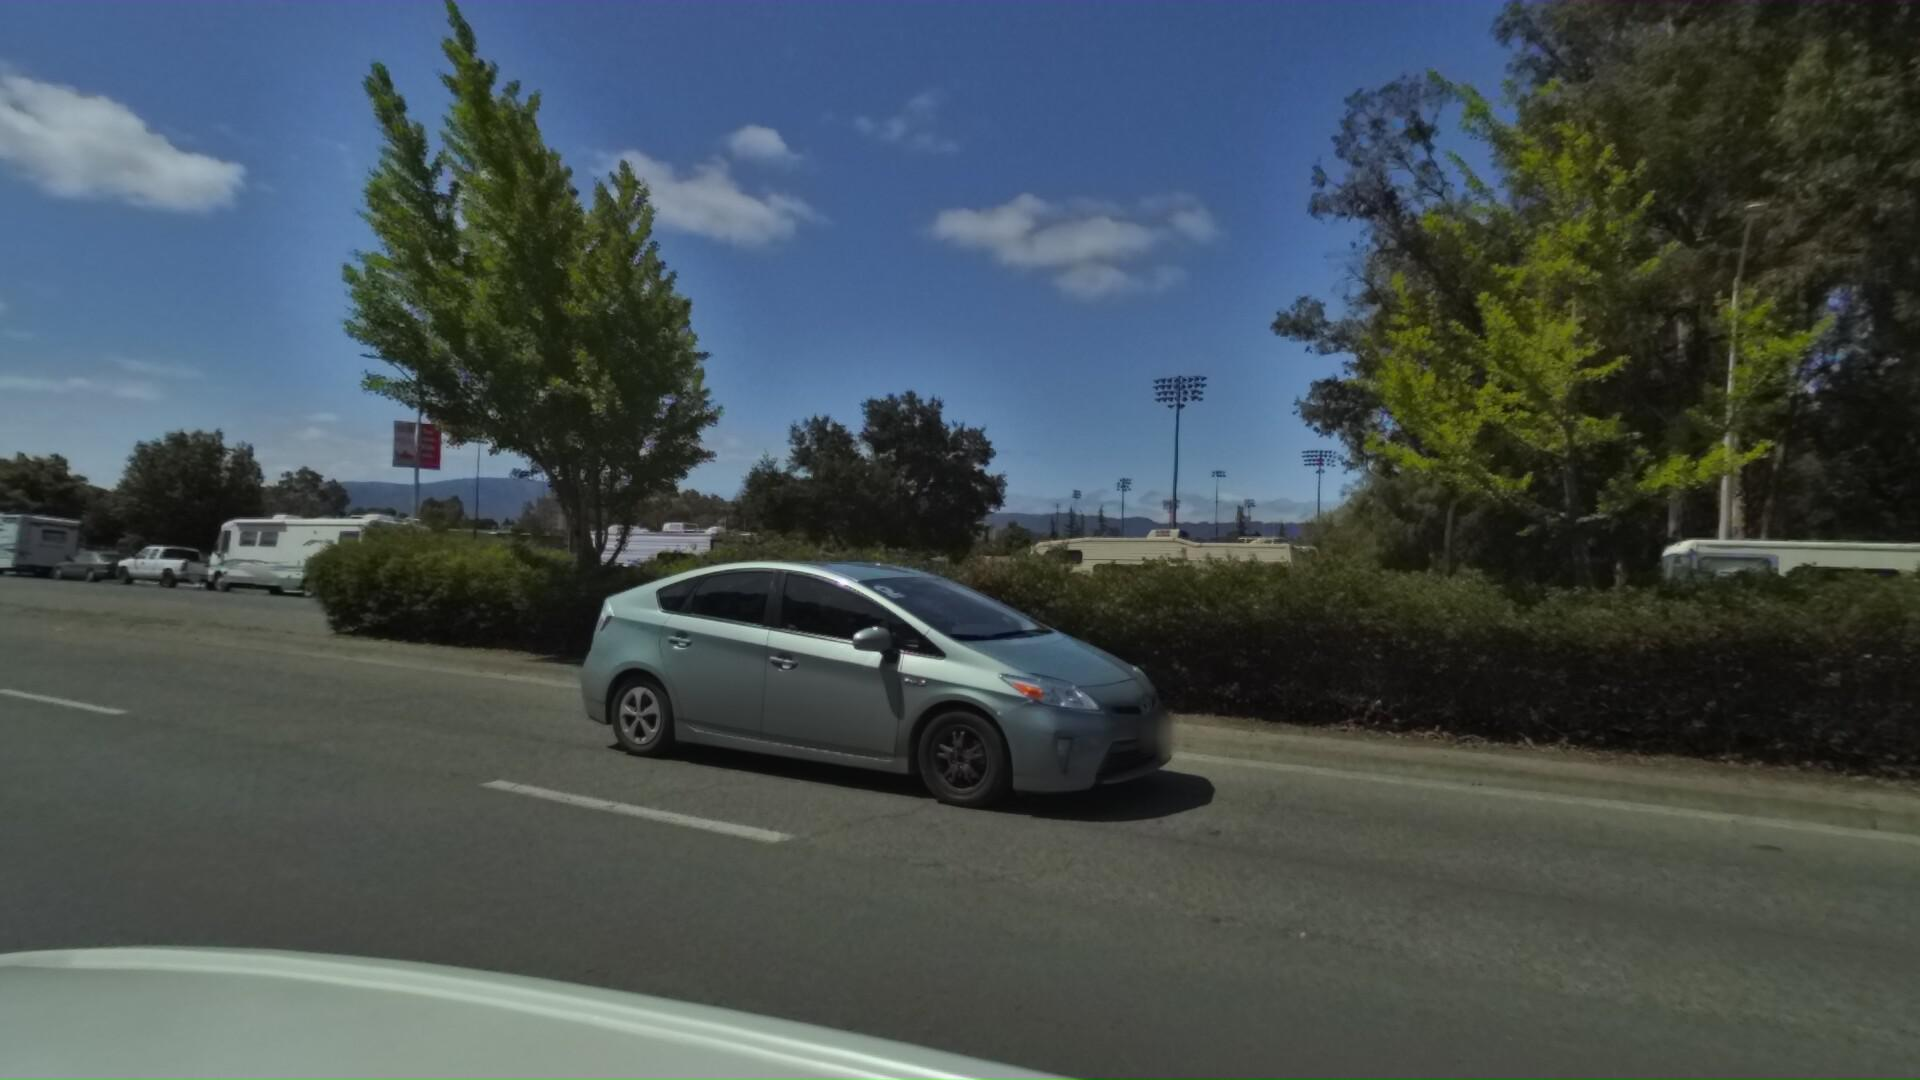car: (545, 530, 1207, 829), (104, 541, 232, 591), (44, 549, 145, 585)
other_vehicle: (1597, 508, 1920, 766), (973, 514, 1308, 680), (522, 517, 761, 628), (193, 505, 431, 605), (0, 509, 88, 583)
